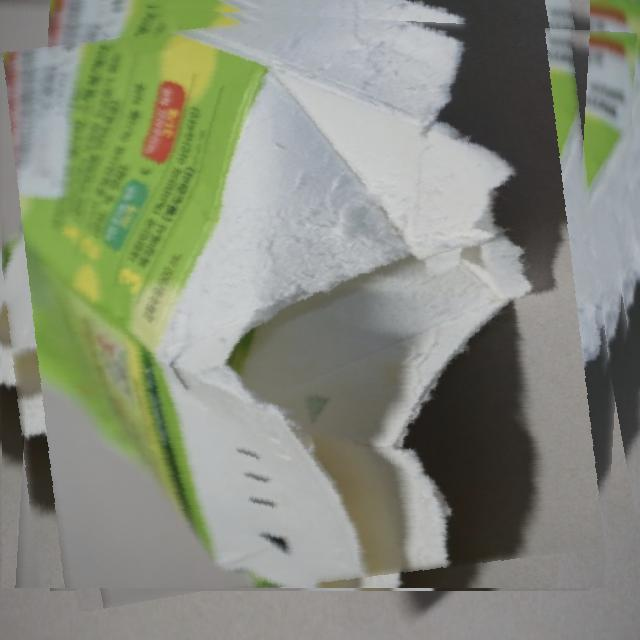biodegradable: (2, 0, 637, 588)
